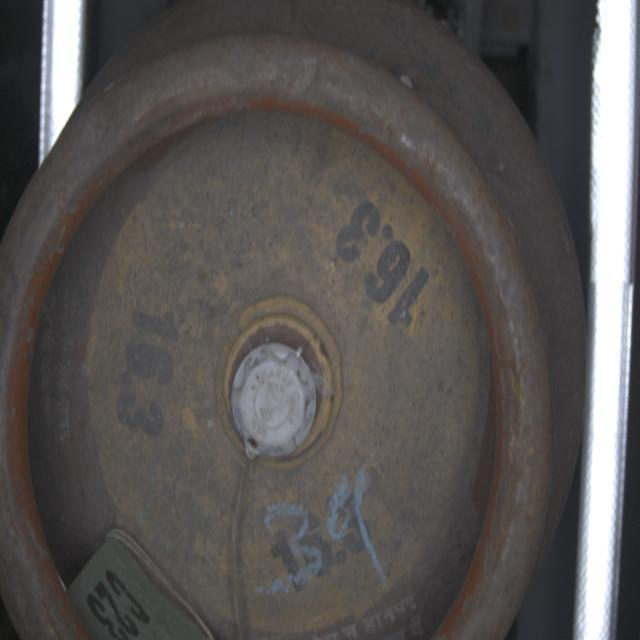Cap: (229, 338, 319, 462)
